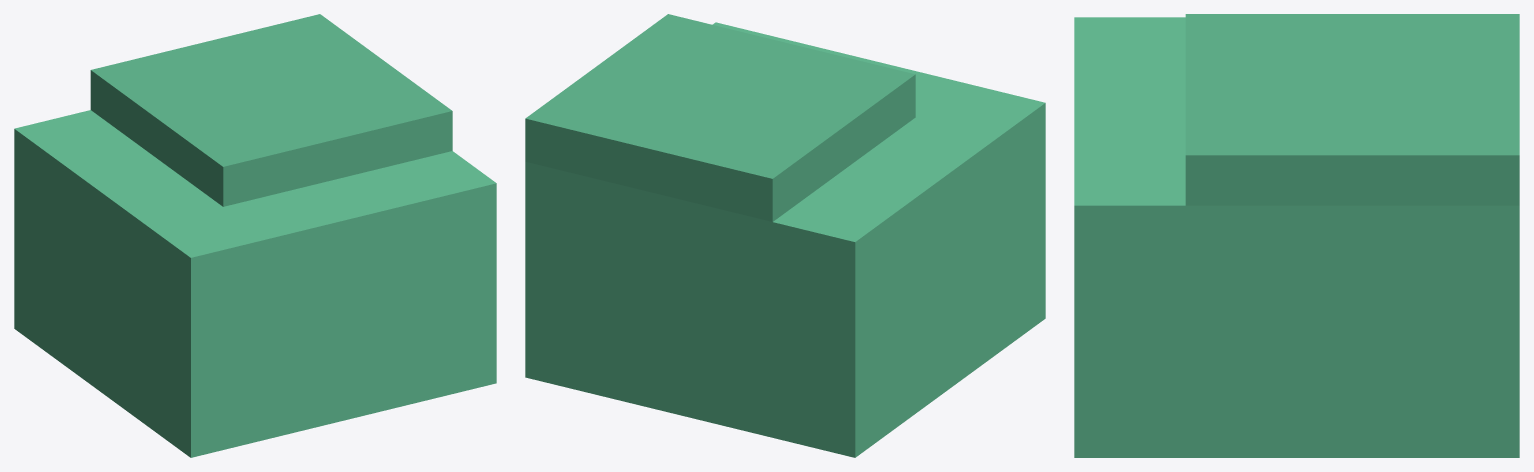
The model's file is esmeralda_03.glb.
3 views of the same model, side by side, from view 1: azimuth 30°, elevation 25°; view 2: azimuth 150°, elevation 25°; view 3: azimuth 270°, elevation 25° (orthographic). The views are drawn at different scales.
Parts seen in each view (by area): view 1: esmeralda_03; view 2: esmeralda_03; view 3: esmeralda_03.
Part boxes in pixels (x1,y1,x2,y2): esmeralda_03: (14,14,496,457); esmeralda_03: (525,14,1045,457); esmeralda_03: (1074,14,1519,457).
Size of the model in its own units: 0.8 by 0.6 by 0.8.
